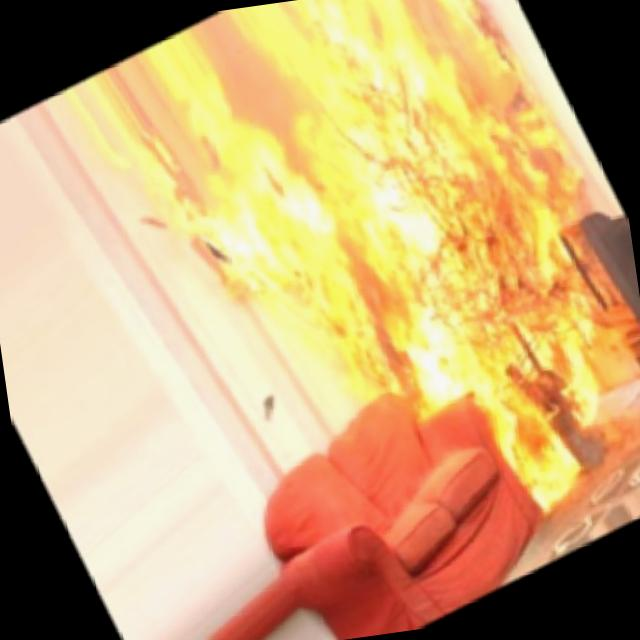fire: (81, 0, 640, 635)
